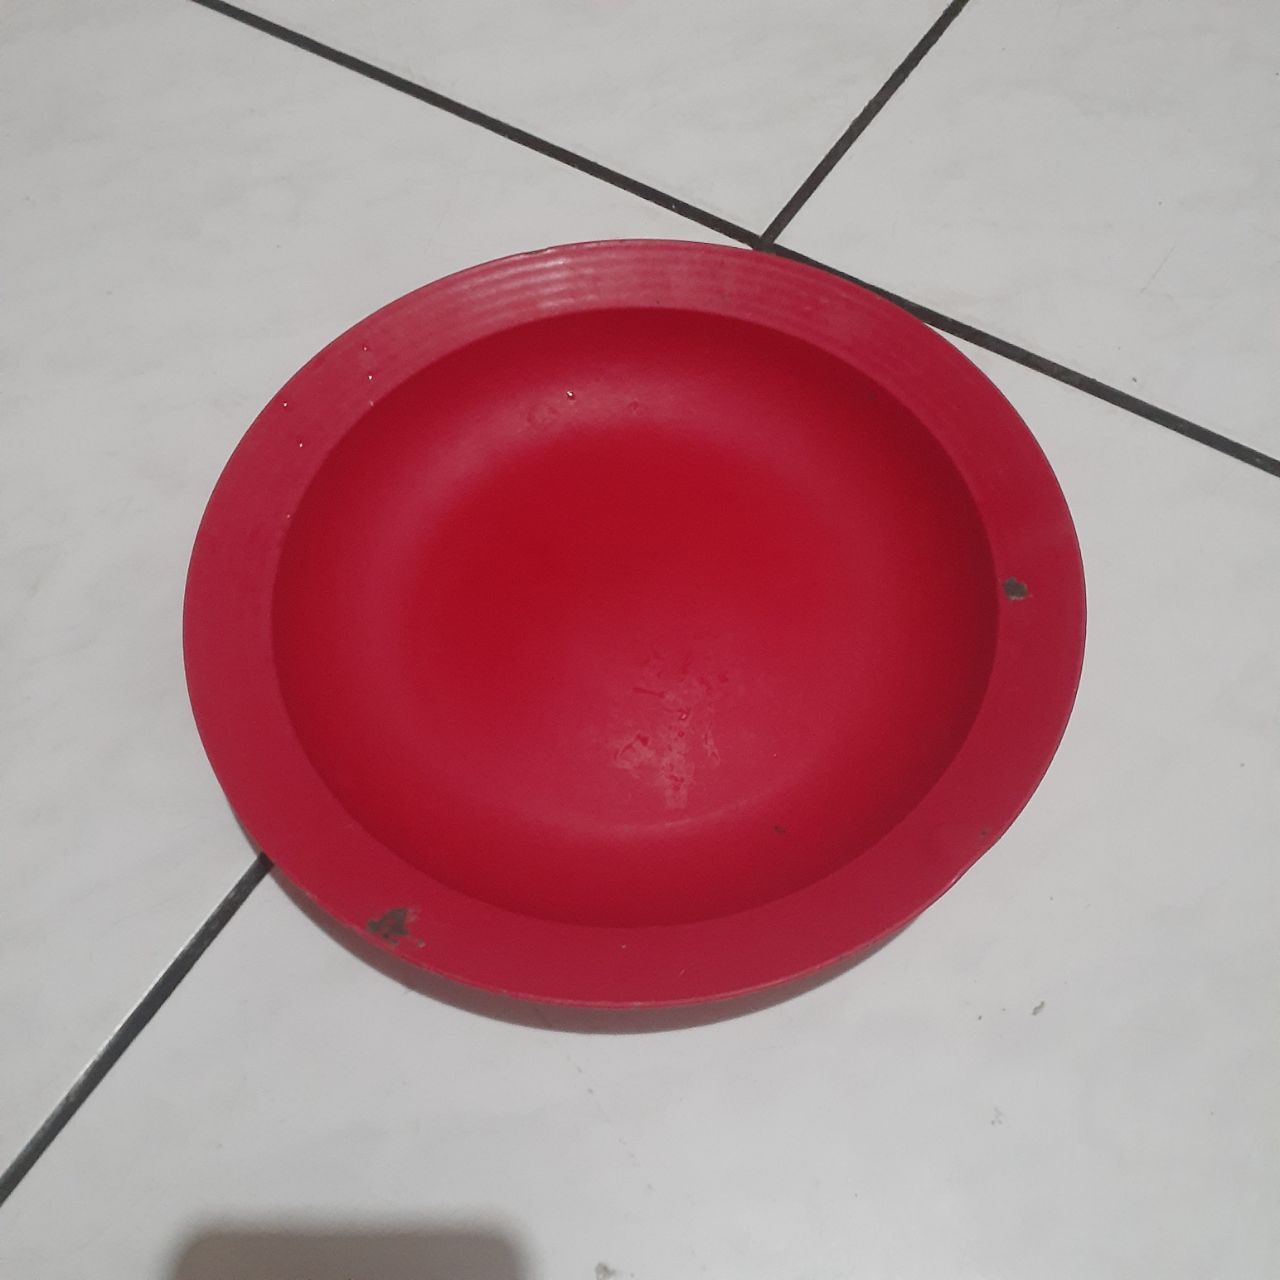piring: (188, 224, 1084, 1023)
